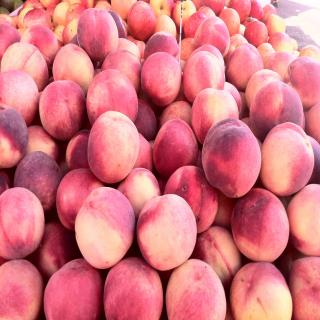Peach: (0, 0, 320, 320), (36, 80, 86, 138)
